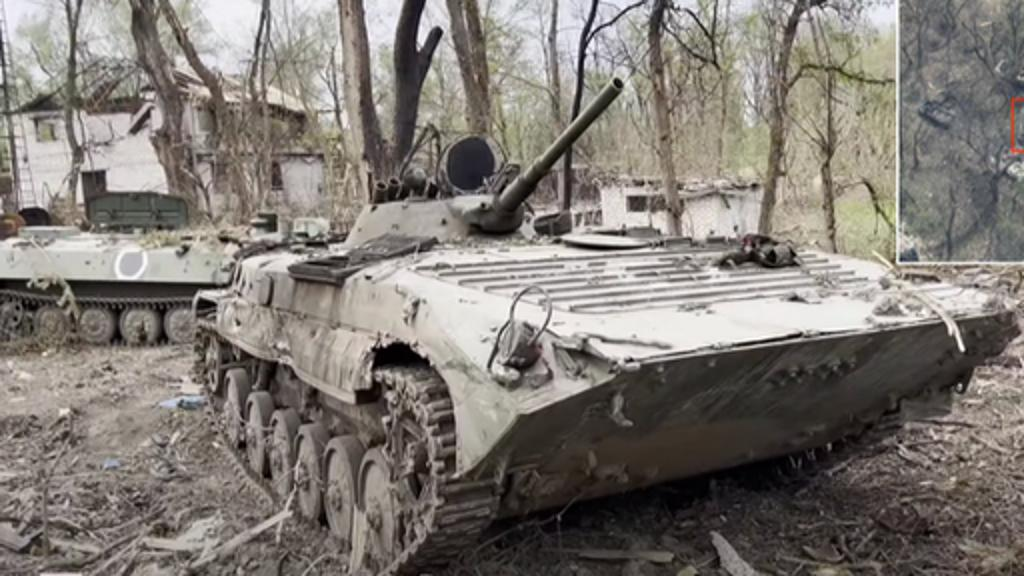APC-IFV: (194, 76, 1014, 572), (0, 196, 338, 338)
